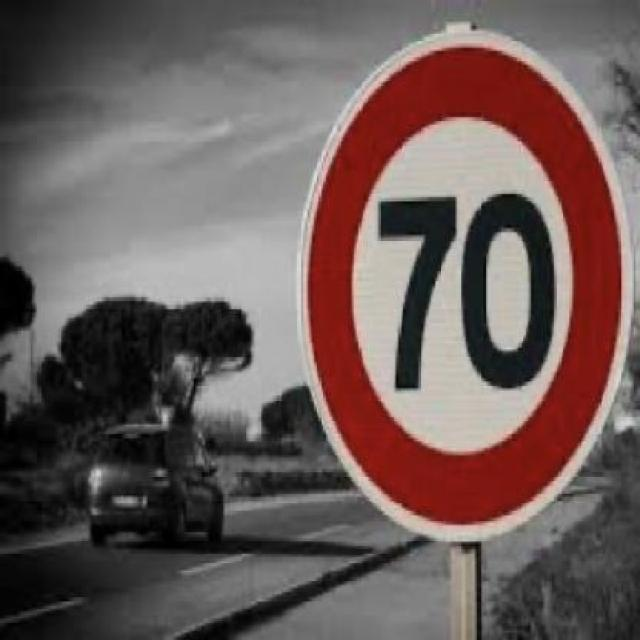forb_speed_over_70: (301, 37, 628, 537)
